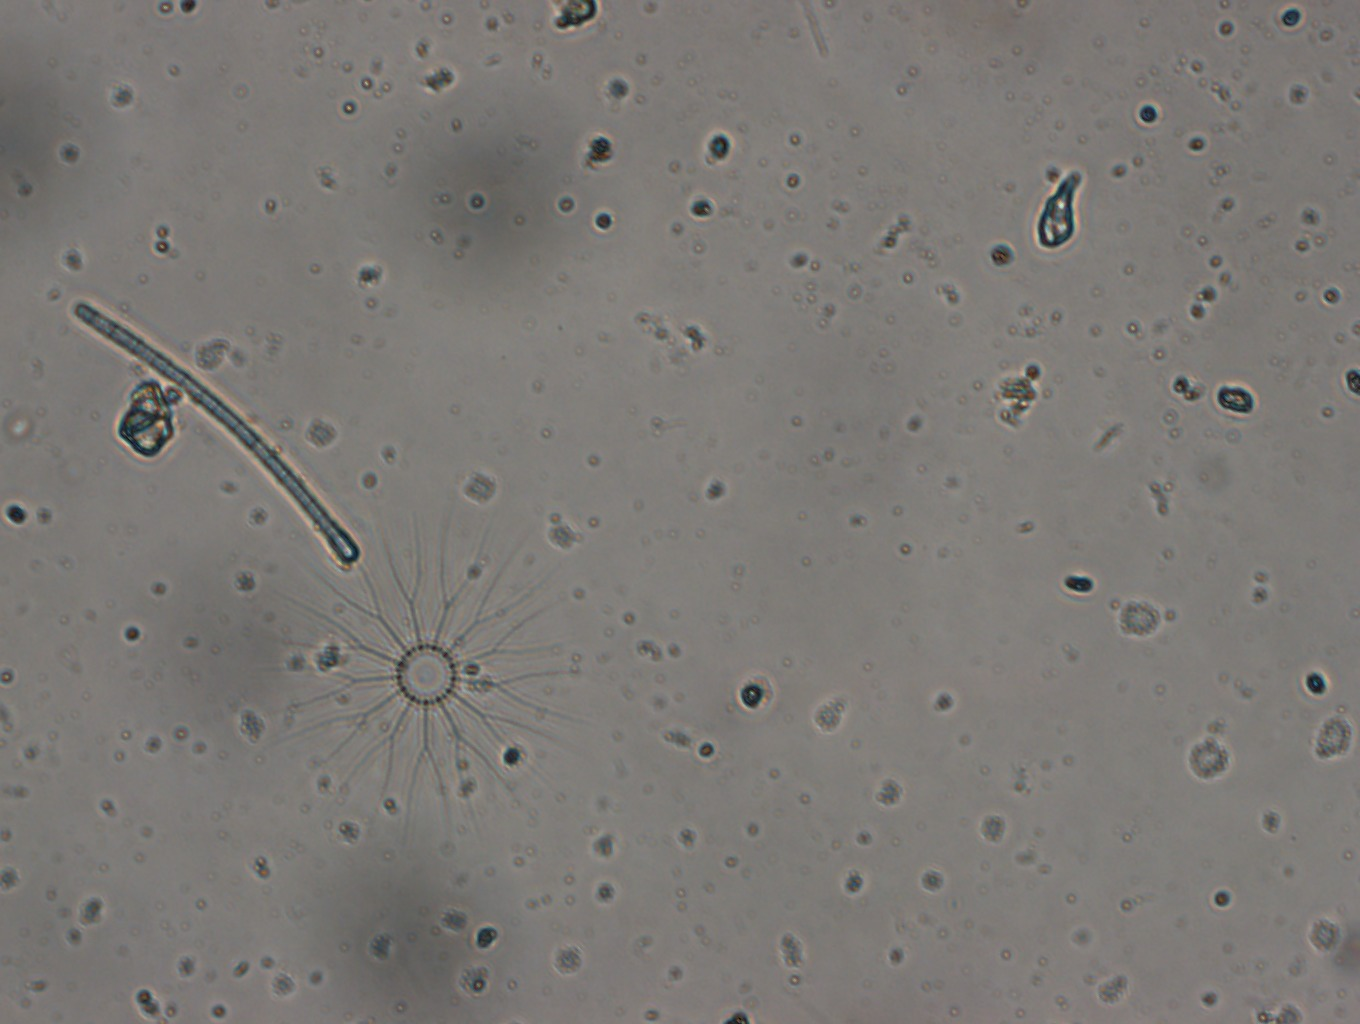bacteriastrum: (286, 524, 576, 812)
